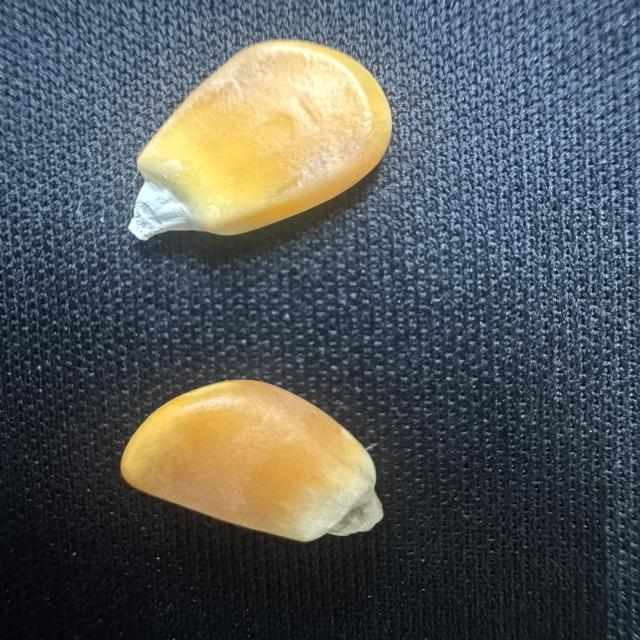Good-Seed: (116, 35, 397, 243), (114, 371, 388, 544)
